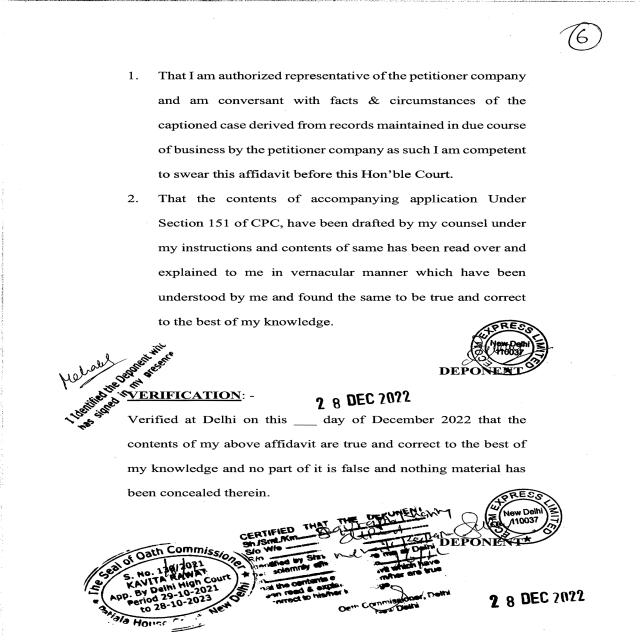page-number: (450, 5, 634, 68)
